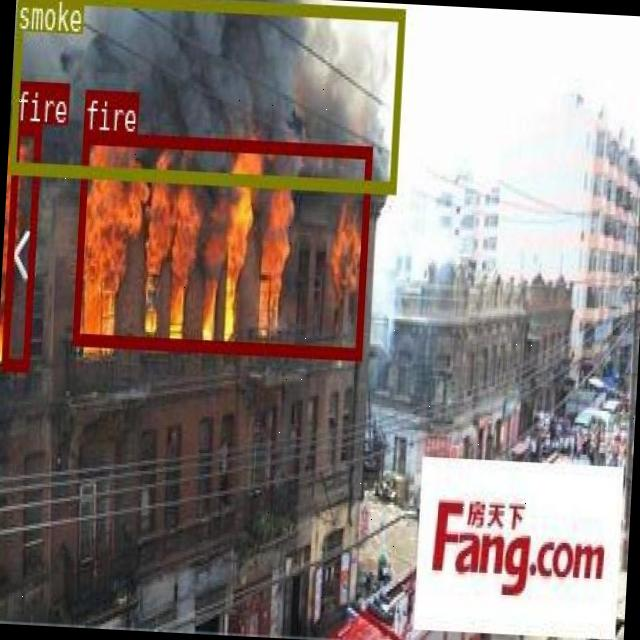fire: (72, 130, 370, 359), (1, 121, 40, 368)
smoke: (8, 0, 404, 190)
